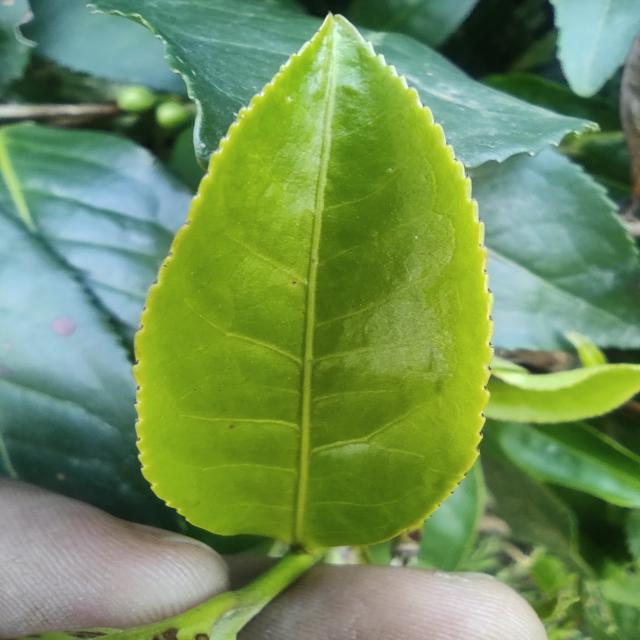Category C 4-7 days: (115, 0, 508, 573)
